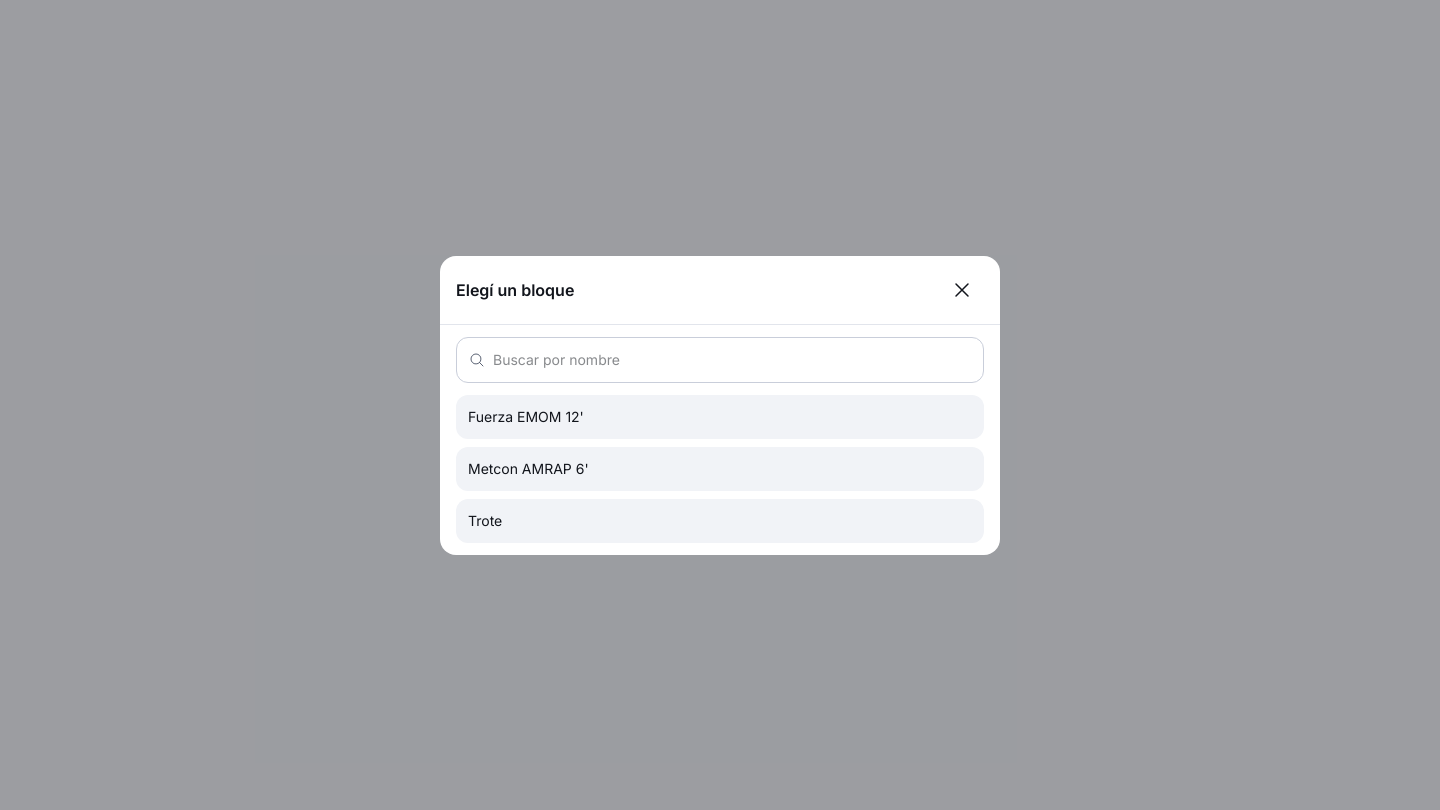
QuickSelector › búsqueda sin resultados: mensaje
The width and height of the screenshot is (1440, 810).
Step 1. Type "zzz" into the search field → (732, 360), box 493,338 -> 971,382
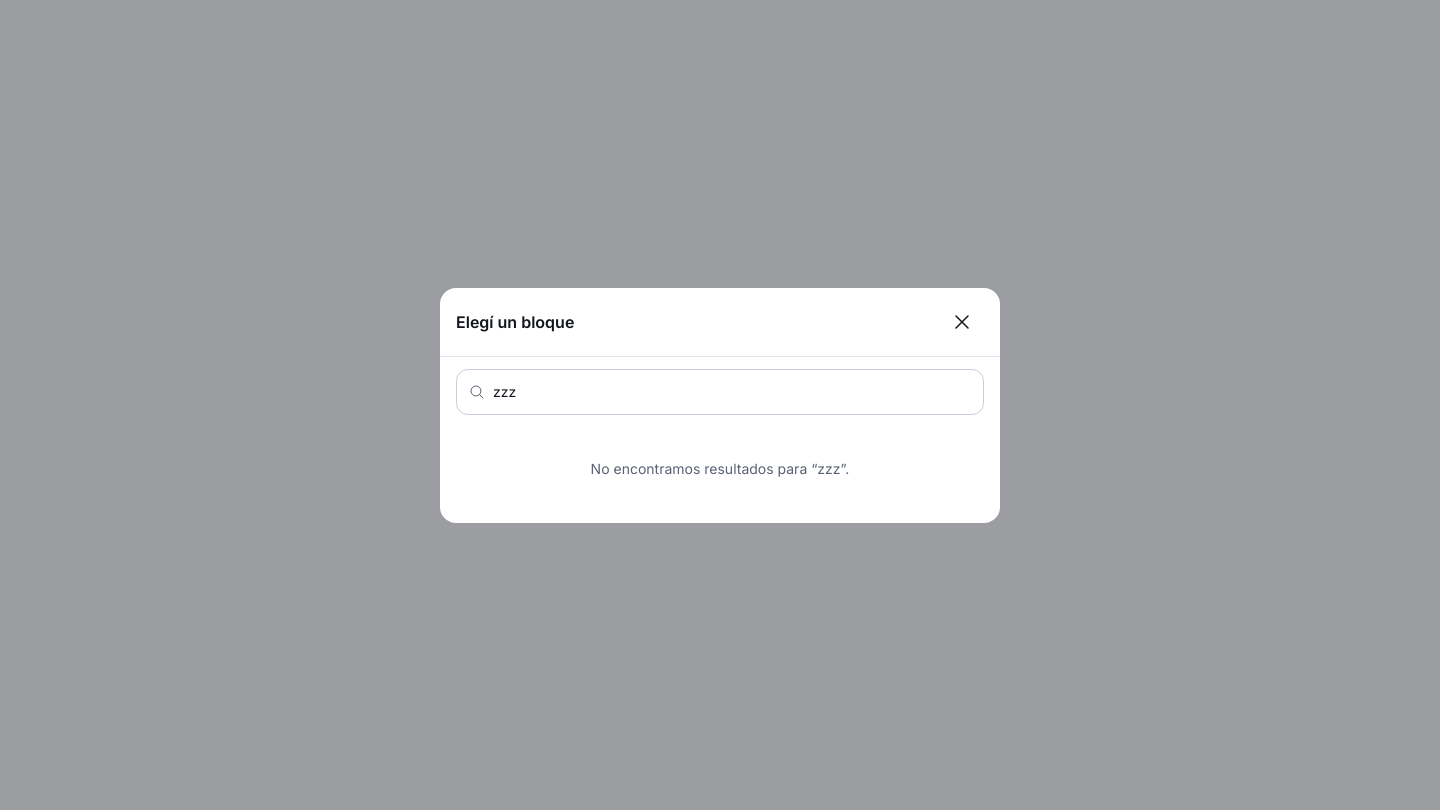
Now the text "No encontramos resultados para “zzz”." is shown, box 591,460 -> 849,476
